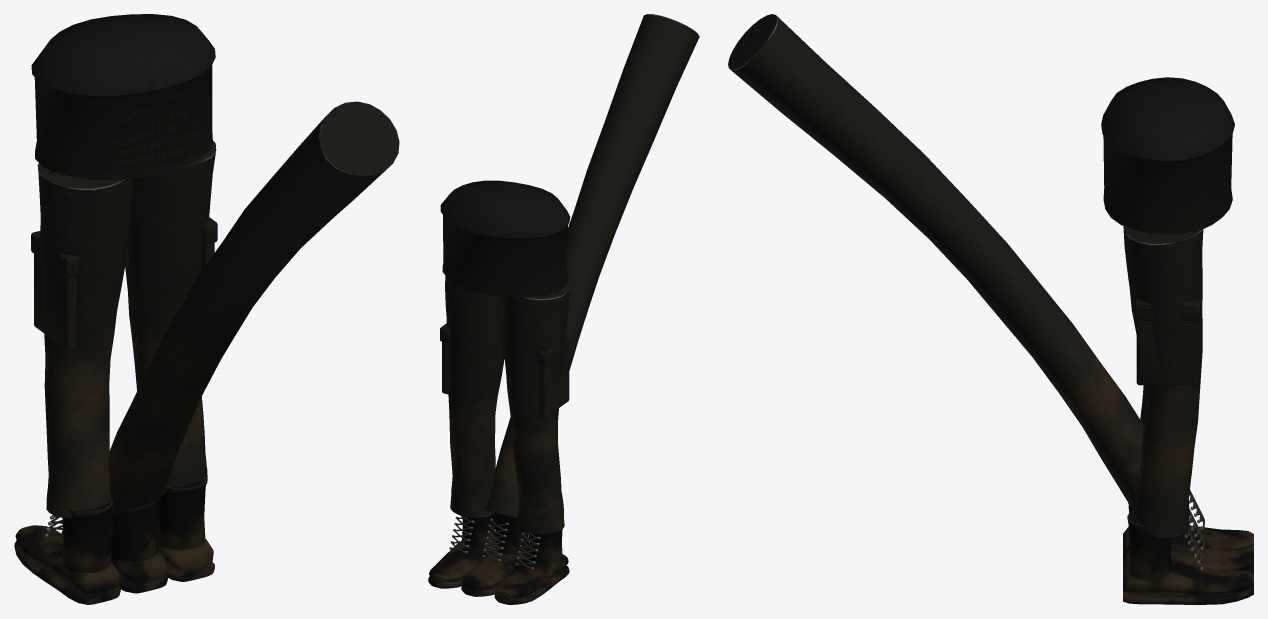
File: legs_low.glb
3 renders of one model, left to right at view 1: azimuth 30°, elevation 25°; view 2: azimuth 150°, elevation 25°; view 3: azimuth 270°, elevation 25°, orthographic. The views are drawn at different scales.
Visible parts, largest first — view 1: boot, leg_l, waist, leg_r; view 2: boot, leg_l, leg_r, waist; view 3: boot, leg_r, waist, leg_l.
Boxes of the visible parts, x1,y1,x2,y2 form: boot: [61, 101, 399, 593]; leg_l: [14, 163, 133, 604]; waist: [31, 14, 215, 266]; leg_r: [125, 141, 217, 581]; boot: [461, 14, 699, 596]; leg_l: [494, 283, 571, 604]; leg_r: [428, 276, 504, 588]; waist: [440, 180, 570, 358]; boot: [728, 14, 1253, 574]; leg_r: [1123, 226, 1253, 604]; waist: [1101, 77, 1234, 234]; leg_l: [1123, 233, 1253, 553].
Size of what is drawn, in the model's own units: 0.3944 by 1.41 by 1.2.
1 material, 1 textured.
